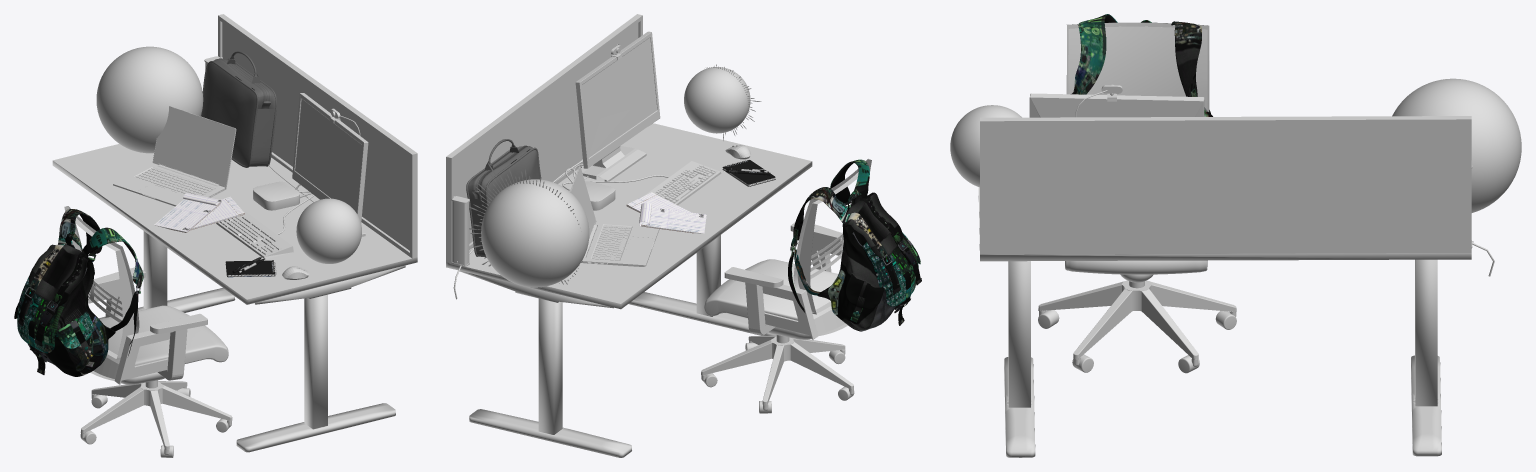
3 renders of one model, left to right at view 1: azimuth 30°, elevation 25°; view 2: azimuth 150°, elevation 25°; view 3: azimuth 270°, elevation 25°, orthographic. The views are drawn at different scales.
Visible parts, largest first — view 1: Set5_2, Set5_1, Set5_3, Set5_7, Set5_6; view 2: Set5_2, Set5_1, Set5_7, Set5_3, Set5_6, Set5_4; view 3: Set5_2, Set5_7, Set5_1, Set5_6.
Boxes of the visible parts, x1=… form: Set5_2: x1=52, y1=14, x2=417, y2=457; Set5_1: x1=14, y1=51, x2=276, y2=376; Set5_3: x1=113, y1=106, x2=276, y2=277; Set5_7: x1=96, y1=46, x2=203, y2=153; Set5_6: x1=296, y1=198, x2=361, y2=263; Set5_2: x1=446, y1=14, x2=871, y2=457; Set5_1: x1=466, y1=139, x2=921, y2=331; Set5_7: x1=481, y1=179, x2=589, y2=287; Set5_3: x1=570, y1=160, x2=775, y2=266; Set5_6: x1=684, y1=67, x2=750, y2=133; Set5_4: x1=469, y1=162, x2=579, y2=284; Set5_2: x1=978, y1=22, x2=1494, y2=457; Set5_7: x1=1392, y1=78, x2=1521, y2=212; Set5_1: x1=1070, y1=14, x2=1212, y2=116; Set5_6: x1=950, y1=105, x2=1021, y2=187.
Bounding box in the file's own units: 1.53 × 1.25 × 1.79.
Materials: 19 (7 with a texture image).
